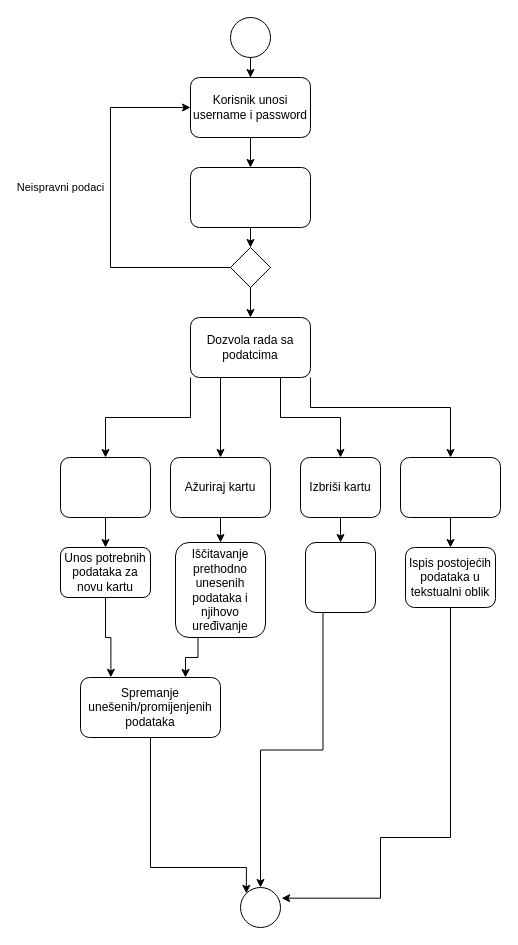
Image size: 518x945. Some labels were removed from this diagram. Here are the shapes that lost their labels. From the top down, the centre of each, then its label:
At pixel 250 197: "sustav provjerava ispravnost".
At pixel 105 487: "Kreiraj novu kartu".
At pixel 450 487: "Tekstualni ispis podataka".
At pixel 340 577: "Uklanjanje postojeće karte".
